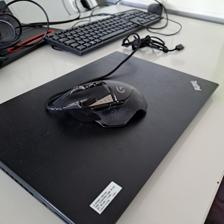mouse: (46, 77, 147, 131)
